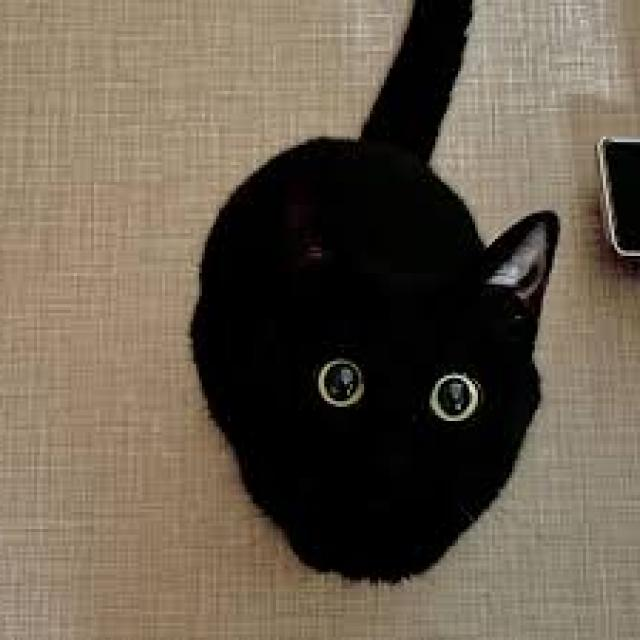black cat: (187, 0, 561, 586)
